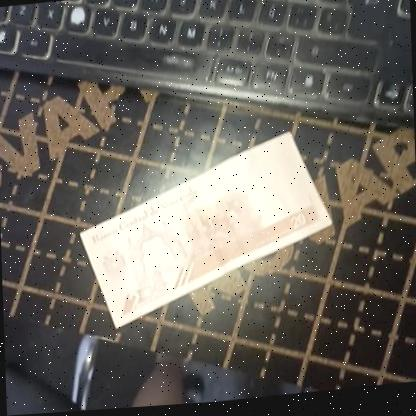twenty-back-vef: (76, 130, 336, 334)
